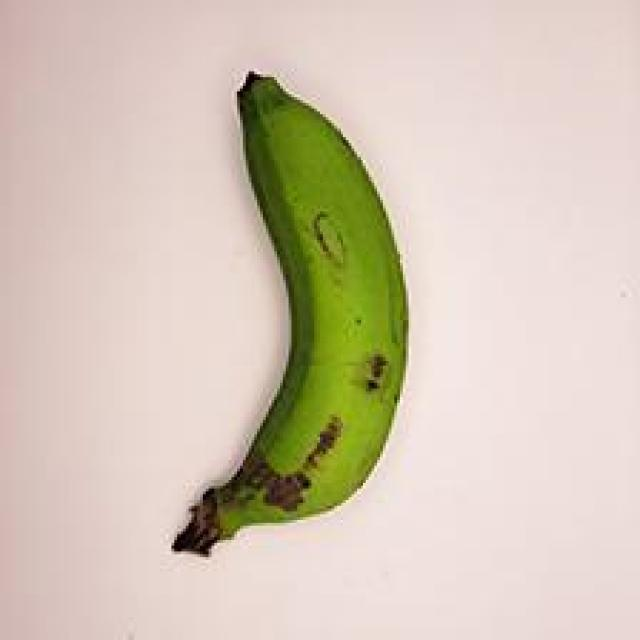Raw: (164, 58, 437, 570)
